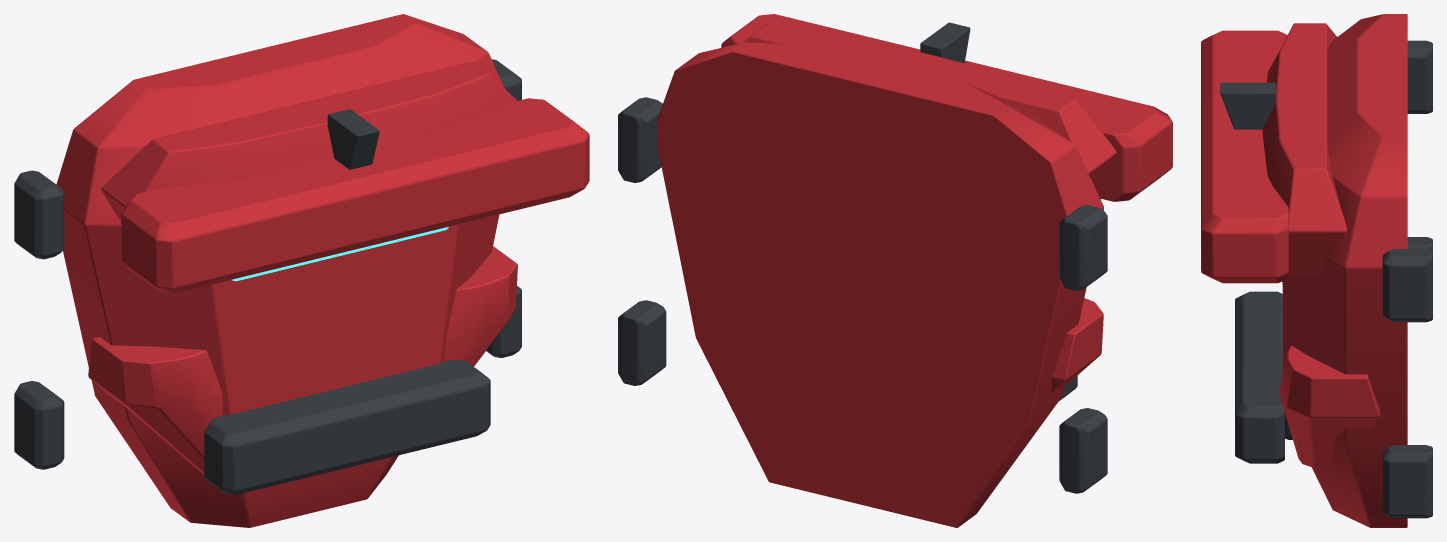
The model's file is HeadFront_Set08_Goliath.fbx.
3 renders of one model, left to right at view 1: azimuth 30°, elevation 25°; view 2: azimuth 150°, elevation 25°; view 3: azimuth 270°, elevation 25°, orthographic. The views are drawn at different scales.
Visible parts, largest first — view 1: HeadFront_Set08_Goliath; view 2: HeadFront_Set08_Goliath; view 3: HeadFront_Set08_Goliath.
Boxes of the visible parts, box(x1,y1,x2,y2) form: HeadFront_Set08_Goliath: box(14, 14, 589, 527); HeadFront_Set08_Goliath: box(618, 14, 1172, 527); HeadFront_Set08_Goliath: box(1201, 14, 1432, 527).
Size of the model in its own units: 0.63 by 0.54 by 0.2775.
